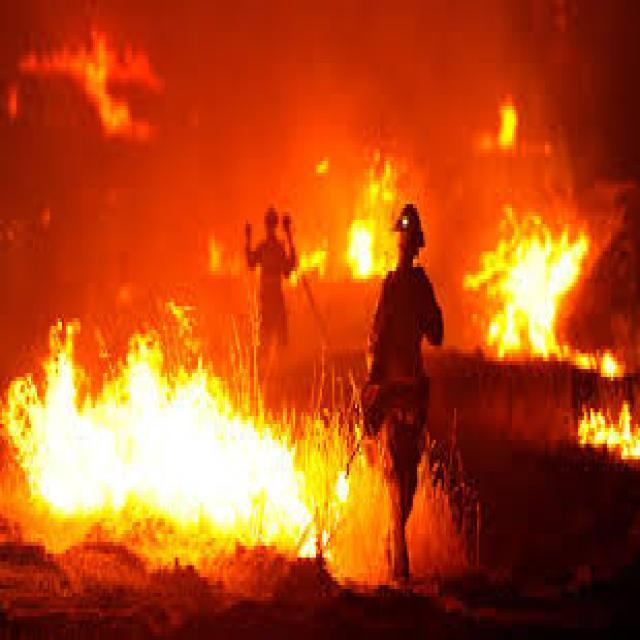Fire: (0, 286, 343, 571), (467, 70, 586, 362), (331, 130, 414, 294), (565, 368, 640, 488)
